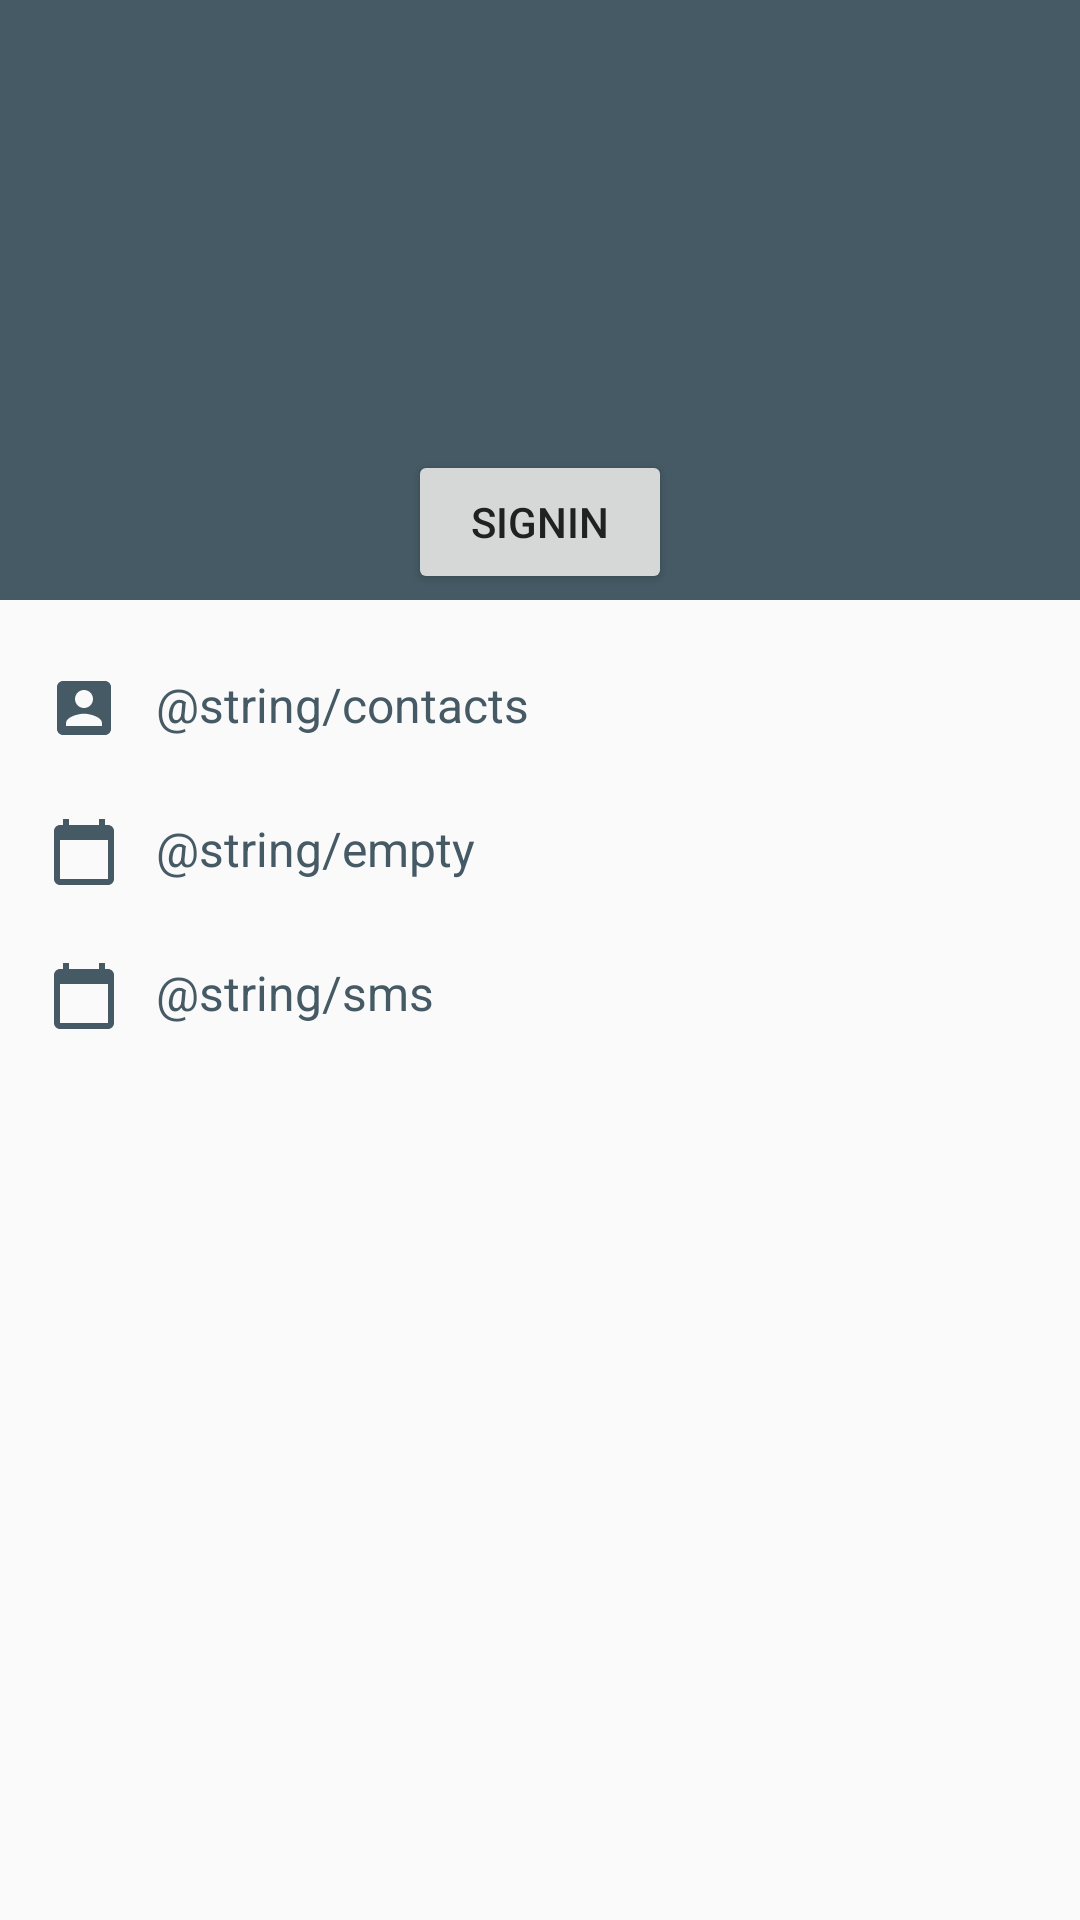

Named icons in this screenshot (1080w x 1920h) and their centers, (x=x, y=y):
account box: (x=84, y=708)
calendar today: (x=84, y=852), (x=84, y=996)
